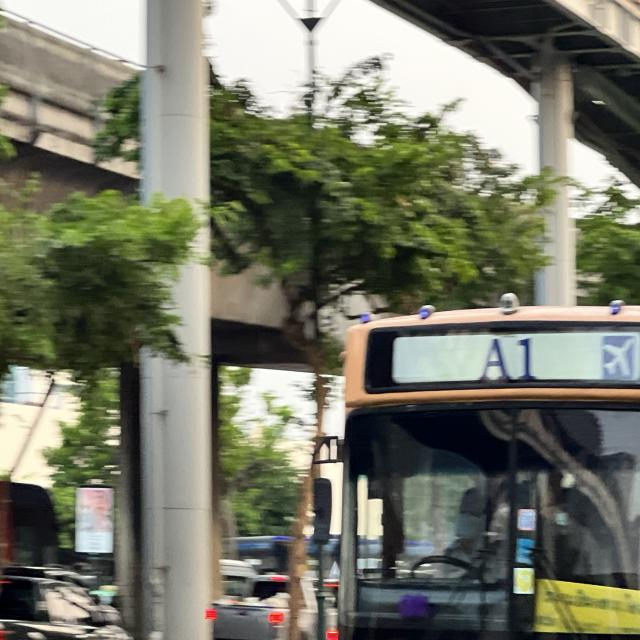BMTA-bus: (328, 287, 640, 640)
Bus-Line-Number: (458, 335, 554, 379)
Destination-Sign-Normal-Expressway: (535, 578, 640, 640)
